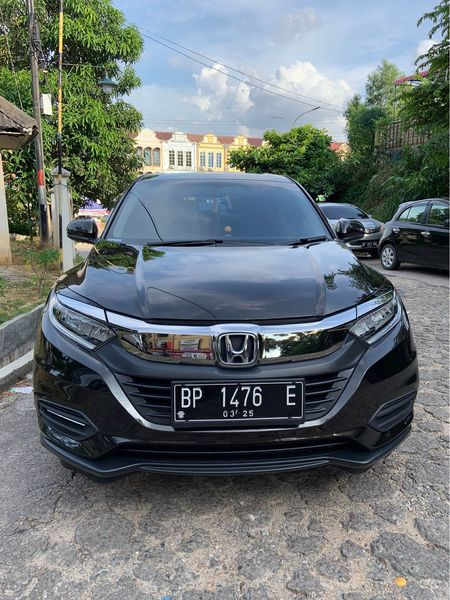plate: (170, 380, 304, 432)
